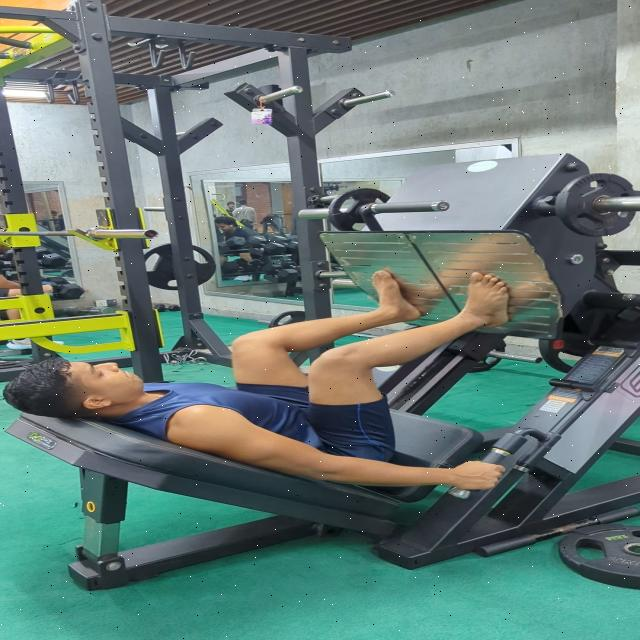Normal_LegPress: (3, 265, 554, 503)
